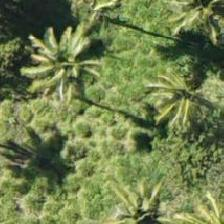coconut_tree: (133, 62, 223, 152), (17, 9, 107, 99), (97, 164, 187, 223)
